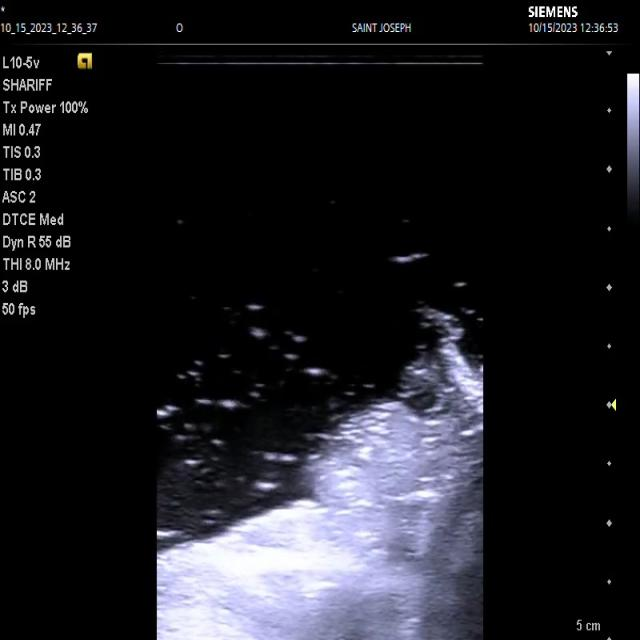tissue: (157, 319, 483, 640)
